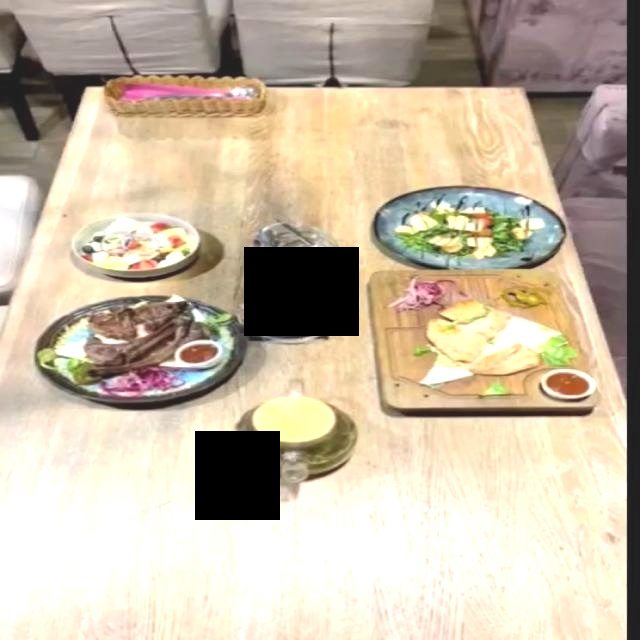meat: (365, 270, 597, 417), (34, 294, 249, 404)
salad: (375, 185, 567, 267), (70, 211, 203, 276)
tea: (229, 395, 359, 480)
